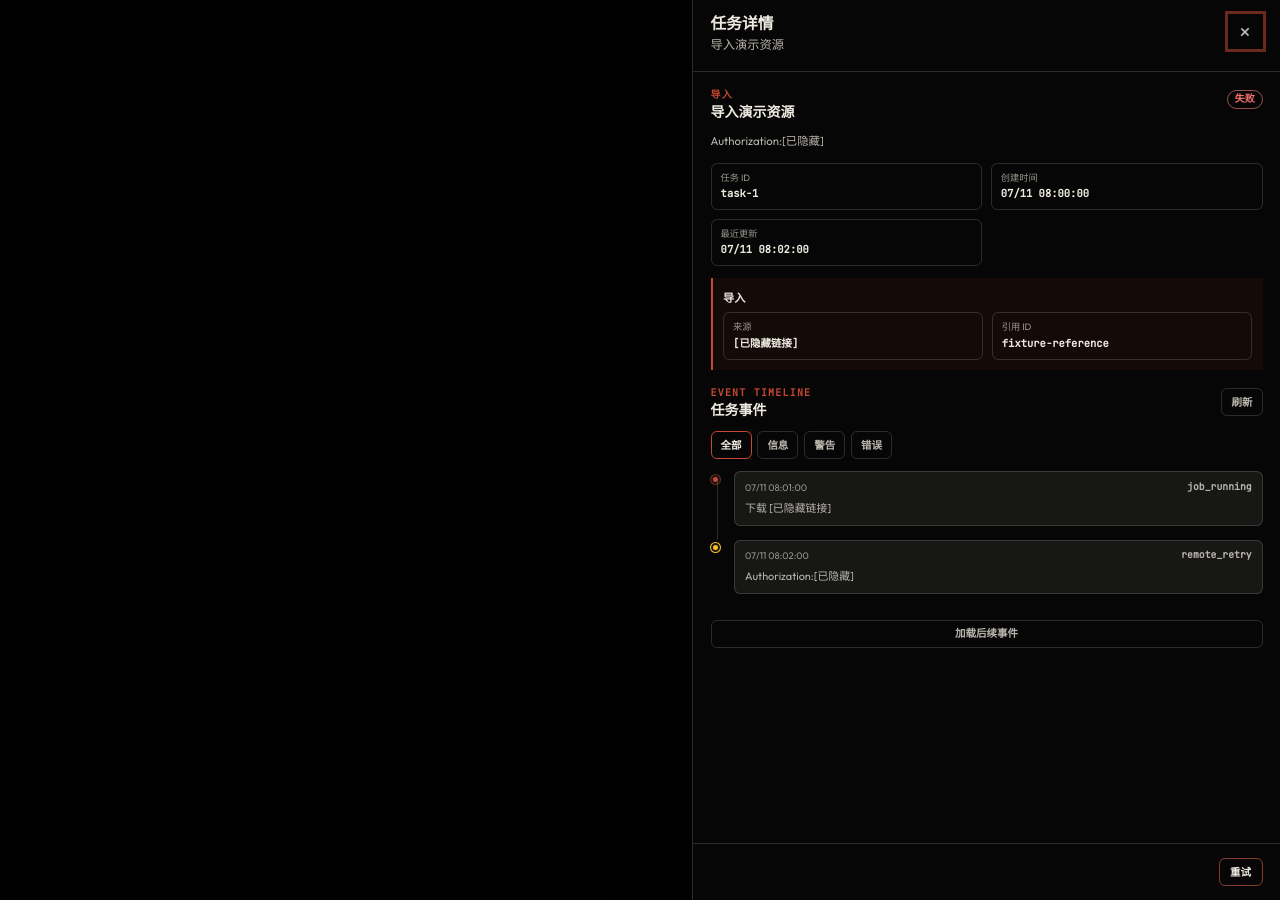
Test: Task Detail Drawer › renders safe details, filters events, and appends the next keyset page without clearing current events
Expected: the list named "任务事件时间线" is shown, [710,471,1262,608]
Expected: the text "[已隐藏链接]" is shown, [733,336,798,350]
What coordinates should you click on to do the following:
click the button "警告"
I would click on:
 (825, 446)
Its box is [804,432,845,460].
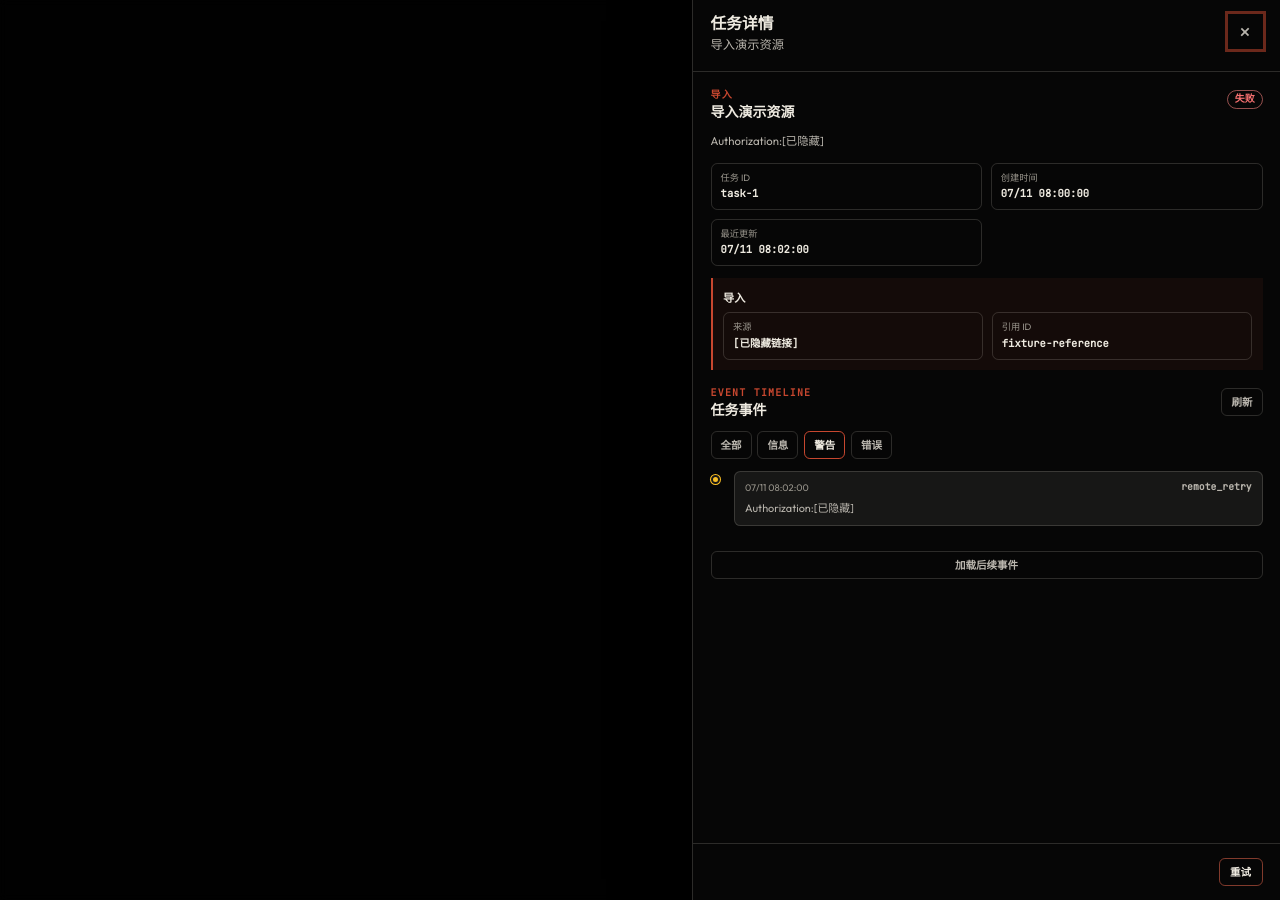
Expected: the text "remote_retry" is shown, [1181,481,1252,494]
Expected: the text "job_running" is gone
What coordinates should you click on to do the following:
click the button "全部"
I would click on:
 (731, 446)
Its box is [710,432,752,460].
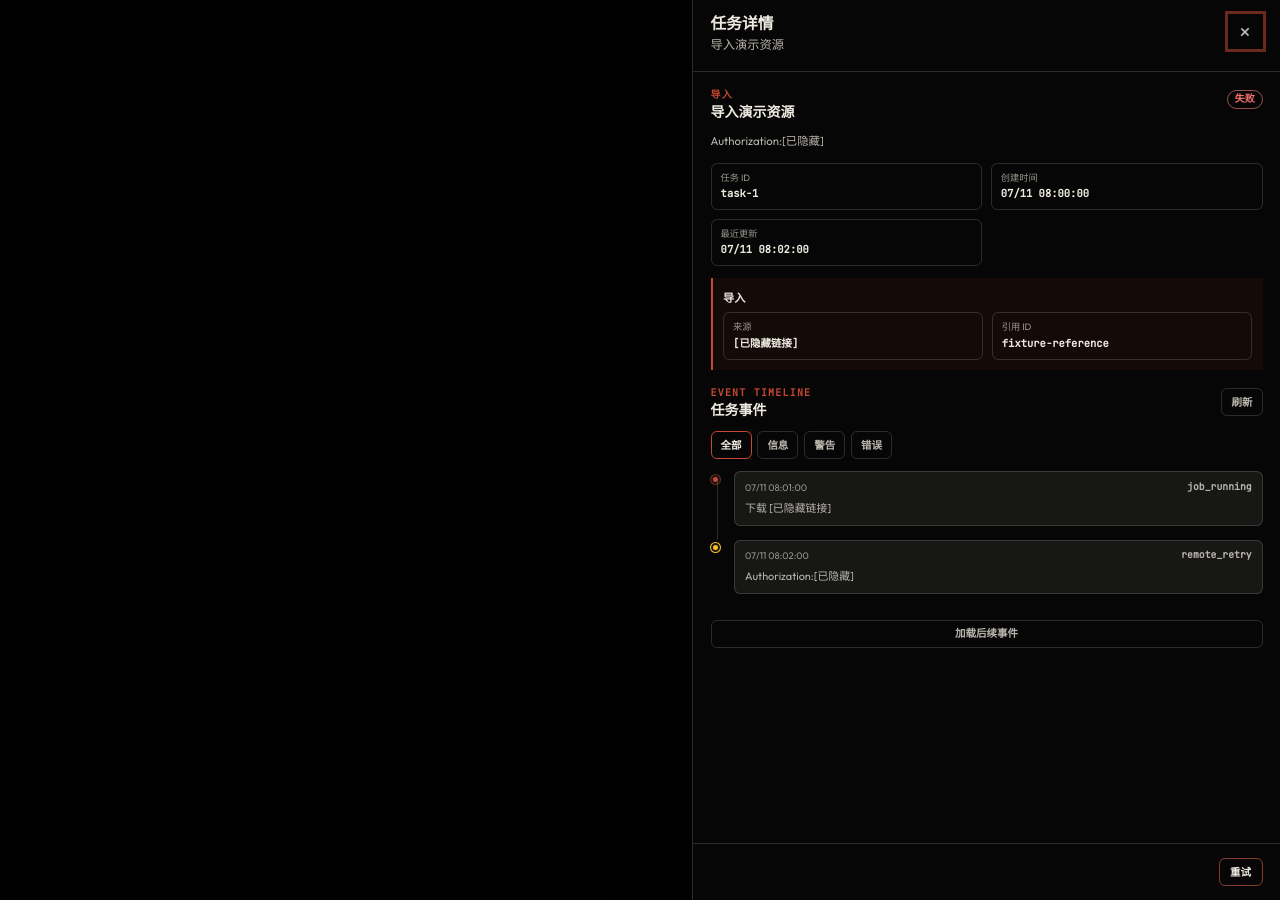
What coordinates should you click on to do the following:
click the button "加载后续事件"
I would click on:
 (986, 634)
Its box is [710,620,1262,648].
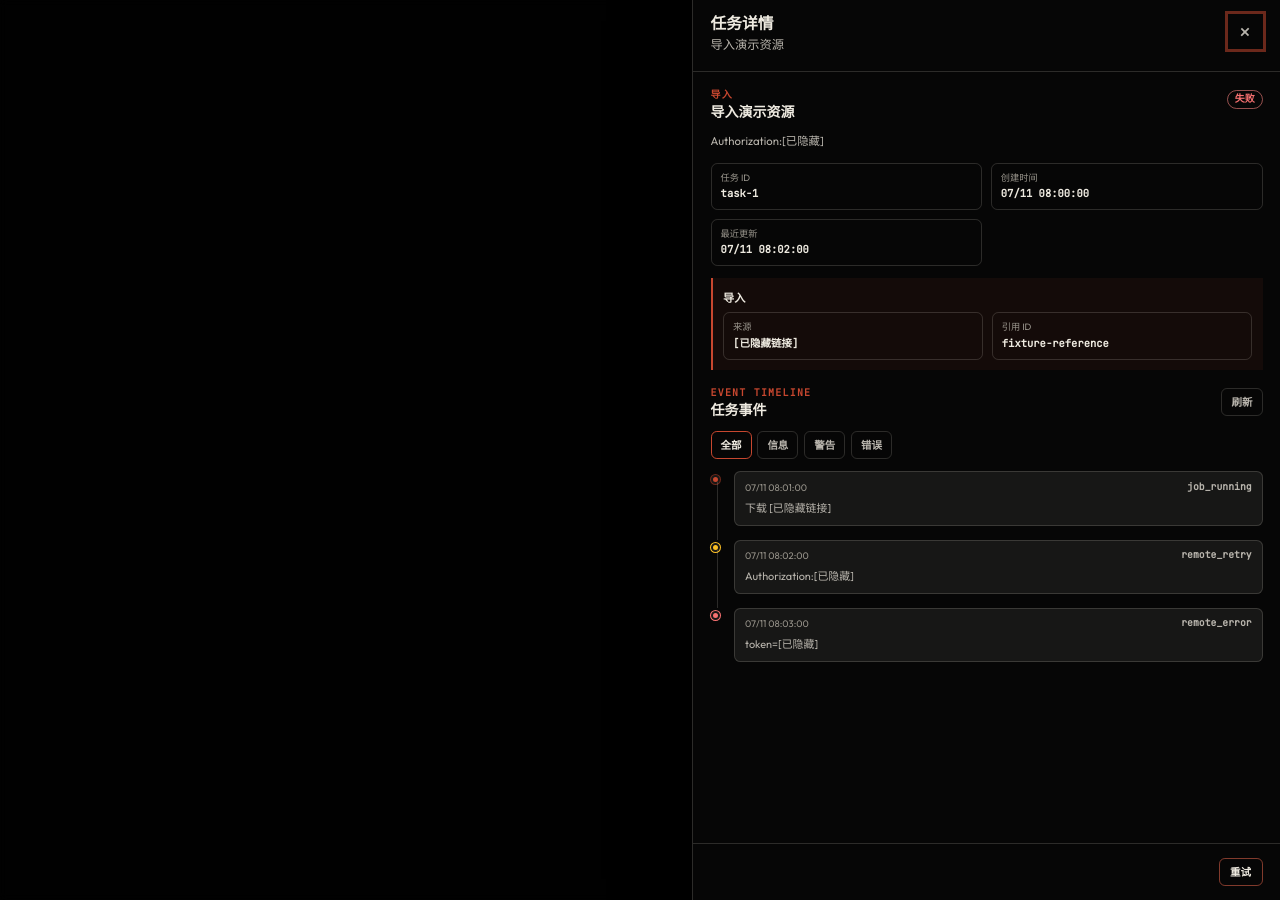
Expected: the text "job_running" is shown, [1187,481,1252,494]
Expected: the text "remote_error" is shown, [1181,617,1252,630]
